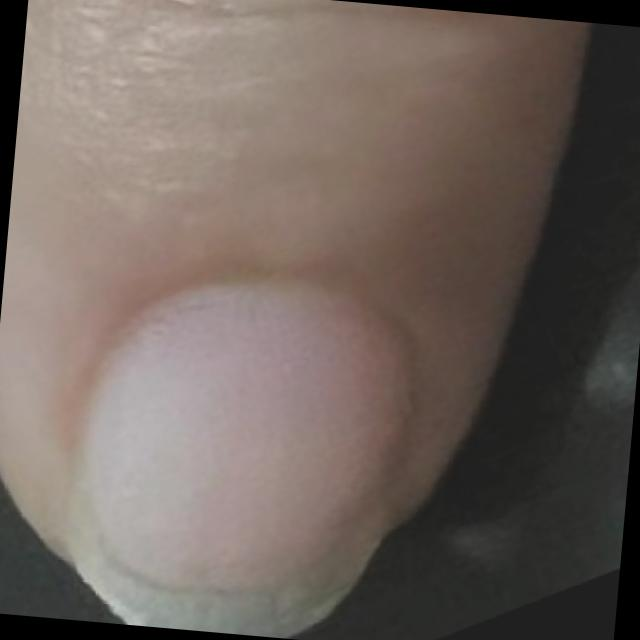Nail: (58, 262, 409, 633)
